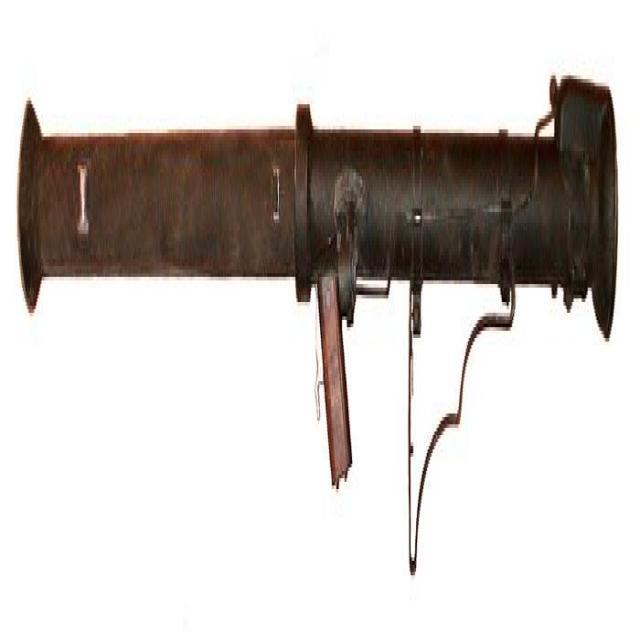rocket launcher: (17, 62, 621, 541)
